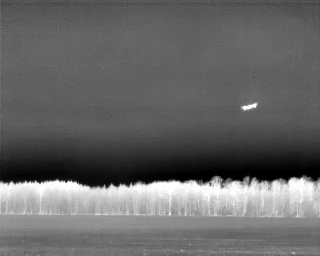DRONE: (239, 97, 262, 115)
